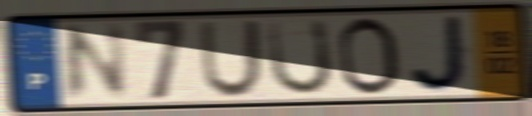7: (132, 17, 189, 104)
J: (407, 13, 474, 95)
N: (60, 20, 131, 105)
O: (335, 15, 404, 98)
U: (265, 16, 336, 98), (197, 18, 264, 101)
